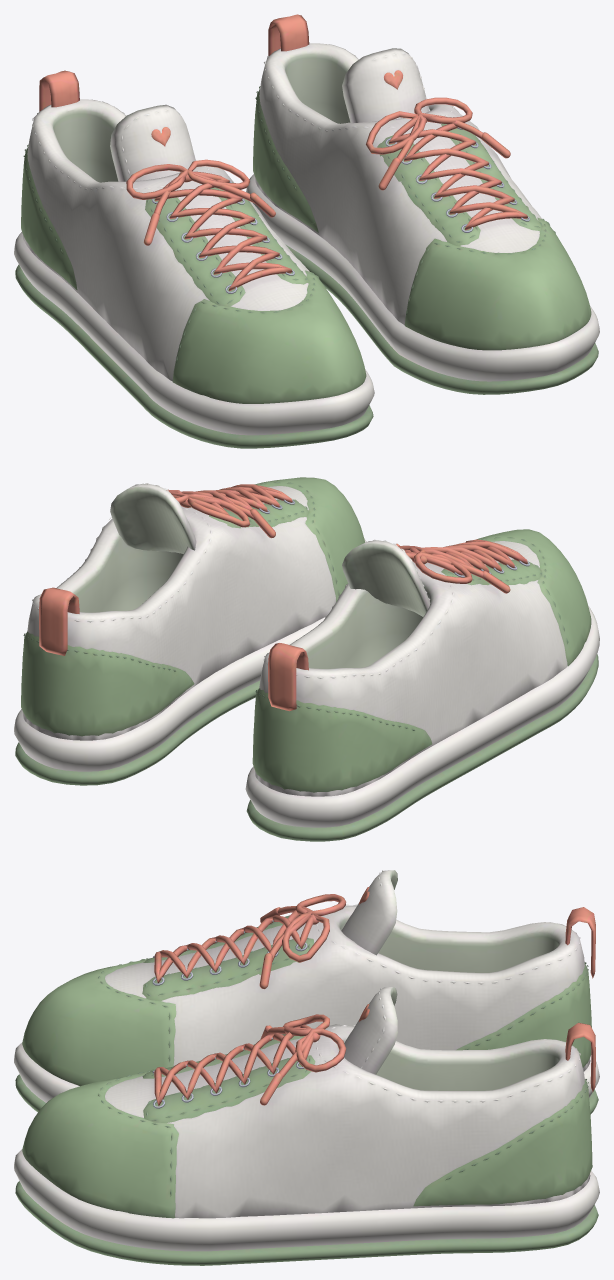
The model's file is zapatos_m2.glb.
3 views of the same model, one above another, from view 1: azimuth 30°, elevation 25°; view 2: azimuth 150°, elevation 25°; view 3: azimuth 270°, elevation 25° (orthographic). The views are drawn at different scales.
Parts seen in each view (by area): view 1: sneaker_body; view 2: sneaker_body; view 3: sneaker_body.
Part boxes in pixels (x1,y1,x2,y2): sneaker_body: [14, 14, 599, 448]; sneaker_body: [14, 477, 599, 841]; sneaker_body: [14, 870, 599, 1265].
Bounding box in the file's own units: 0.2534 × 0.1298 × 0.3.
Materials: 1 (1 with a texture image).
